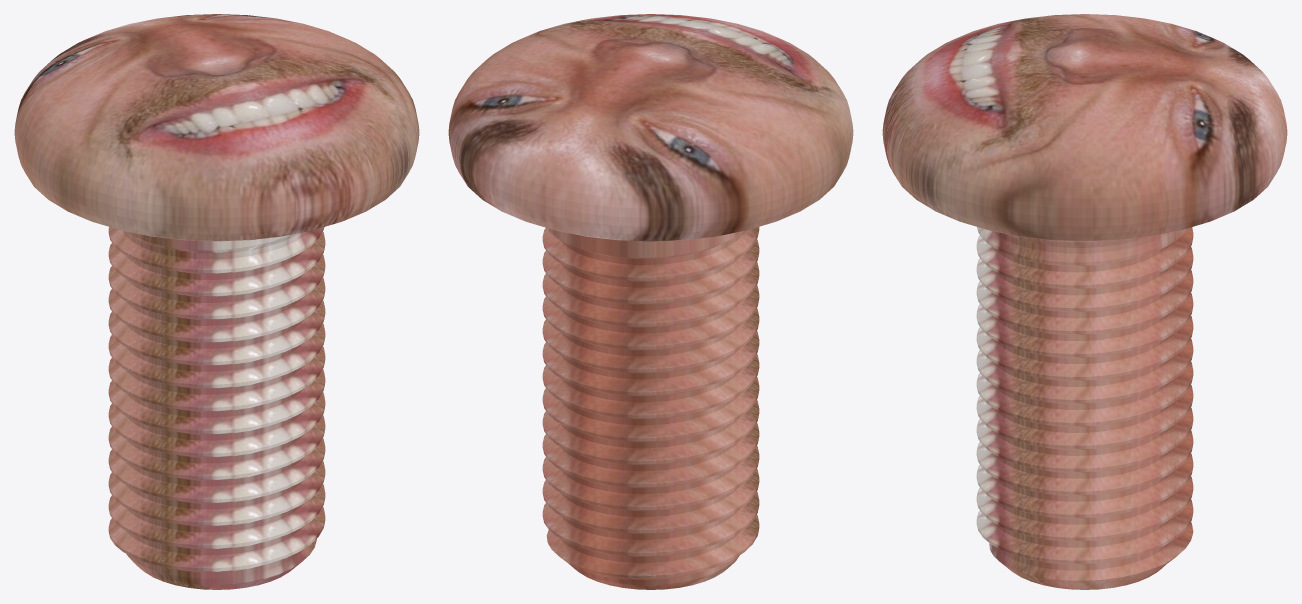
File: kroeger-pan-bolt.glb
3 views of the same model, side by side, from view 1: azimuth 30°, elevation 25°; view 2: azimuth 150°, elevation 25°; view 3: azimuth 270°, elevation 25° (orthographic).
Visible parts, largest first — view 1: Bolt.021; view 2: Bolt.021; view 3: Bolt.021.
Part boxes in pixels (x1=…): Bolt.021: x1=14, y1=14, x2=419, y2=589; Bolt.021: x1=448, y1=14, x2=853, y2=589; Bolt.021: x1=882, y1=14, x2=1287, y2=589.
Size of the model in its own units: 0.0112 by 0.0152 by 0.0112.
Materials: 1 (1 with a texture image).
